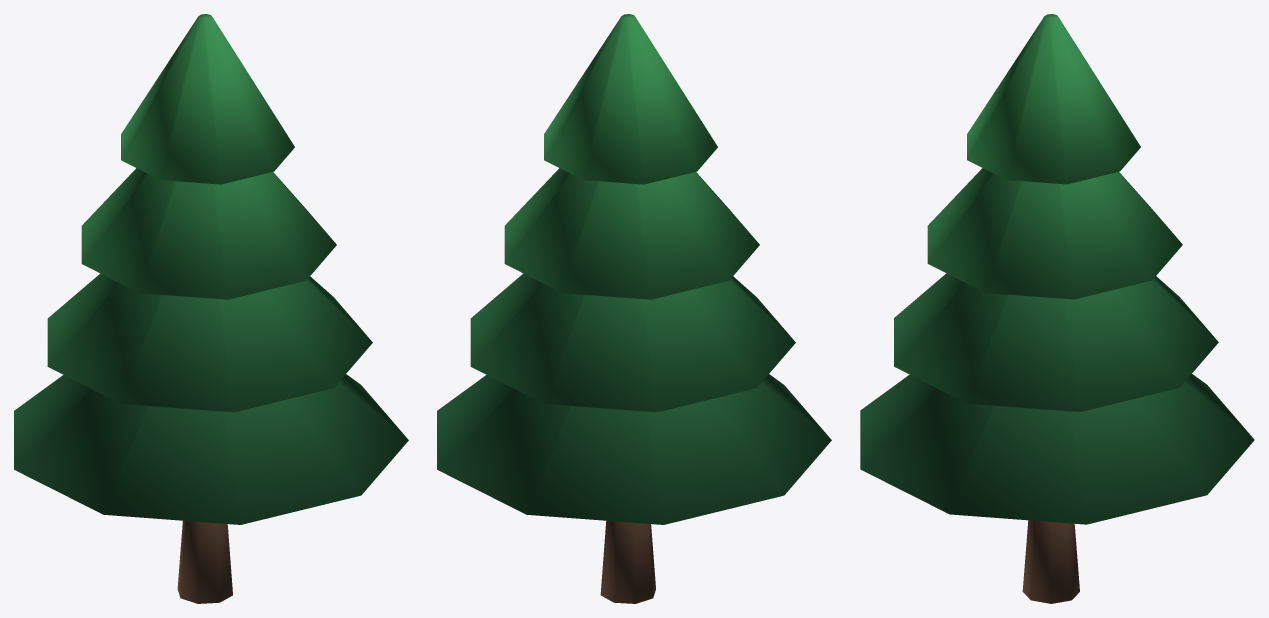
File: pine.glb
The picture shows the model from 3 angles, left to right: view 1: azimuth 30°, elevation 25°; view 2: azimuth 150°, elevation 25°; view 3: azimuth 270°, elevation 25°; orthographic projection.
Visible parts, largest first — view 1: Crown, Trunk; view 2: Crown, Trunk; view 3: Crown, Trunk.
Boxes of the visible parts, left/top/right/bottom form: Crown: left=14, top=14, right=408, bottom=524; Trunk: left=177, top=520, right=232, bottom=603; Crown: left=437, top=14, right=831, bottom=524; Trunk: left=600, top=520, right=655, bottom=603; Crown: left=860, top=14, right=1254, bottom=524; Trunk: left=1022, top=520, right=1079, bottom=603.
Bounding box in the file's own units: 3.35 × 5.3 × 3.3.
